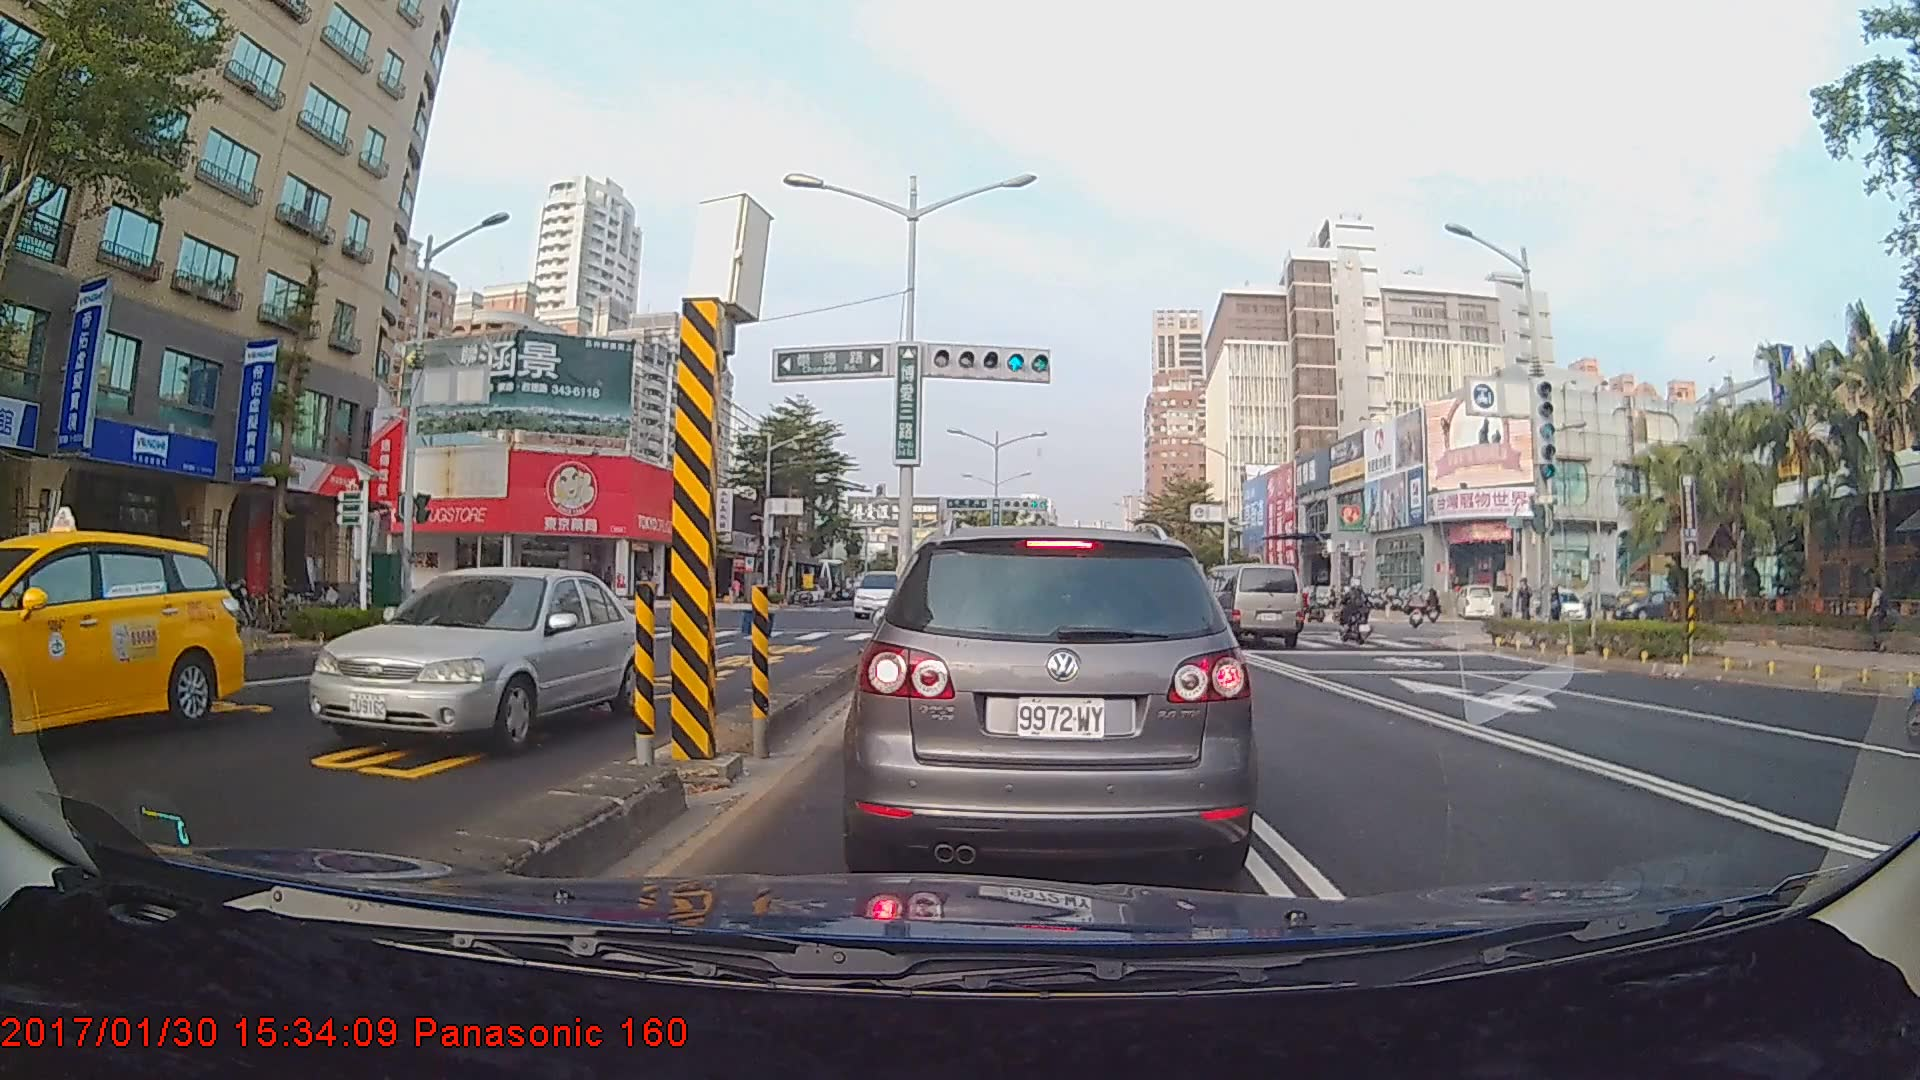pedestrian: (1863, 580, 1890, 655)
rider: (1340, 578, 1380, 651), (1401, 582, 1426, 635)
vehicle: (855, 521, 1248, 882), (306, 562, 647, 751), (0, 527, 244, 757), (1191, 562, 1306, 649), (850, 570, 916, 618)
